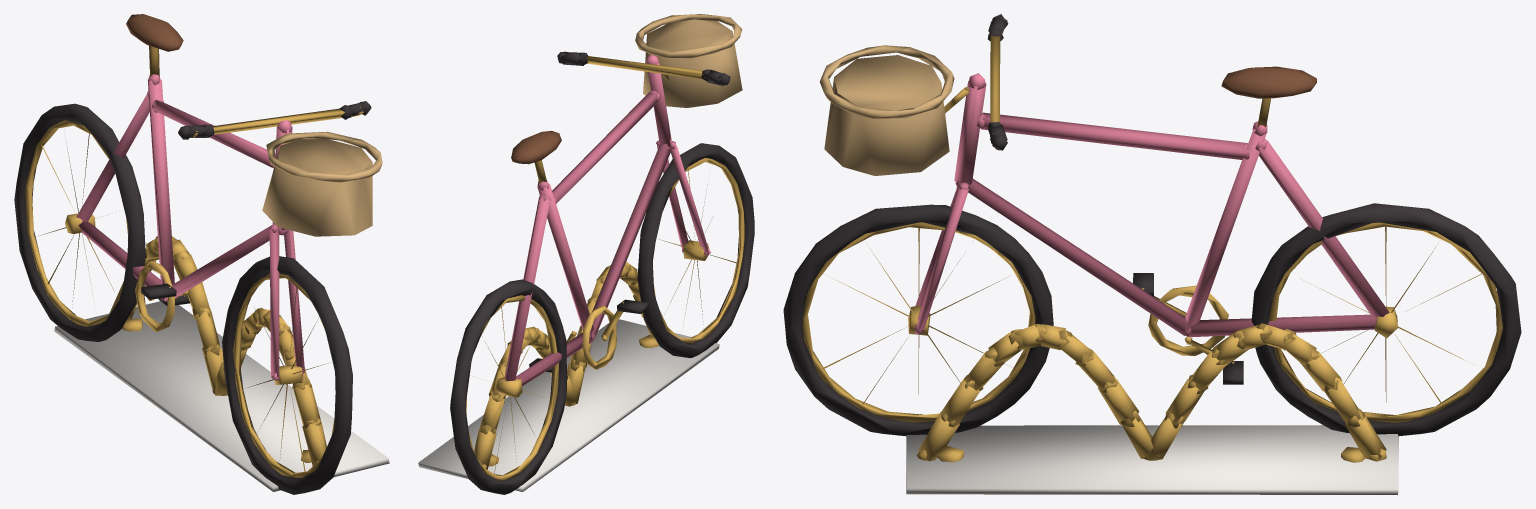
The model's file is bike-rack-gold.glb.
The picture shows the model from 3 angles, left to right: view 1: azimuth 30°, elevation 25°; view 2: azimuth 150°, elevation 25°; view 3: azimuth 270°, elevation 25°; orthographic projection. The views are drawn at different scales.
Visible parts, largest first — view 1: bike-rack-gold; view 2: bike-rack-gold; view 3: bike-rack-gold.
Boxes of the visible parts, x1=… form: bike-rack-gold: x1=14, y1=14, x2=389, y2=494; bike-rack-gold: x1=418, y1=14, x2=754, y2=494; bike-rack-gold: x1=783, y1=14, x2=1521, y2=494.
Bounding box in the file's own units: 0.5551 × 0.9665 × 1.64.
